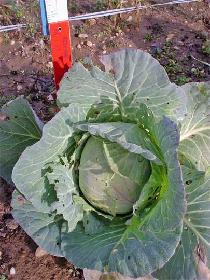cabbage: (73, 127, 162, 222)
